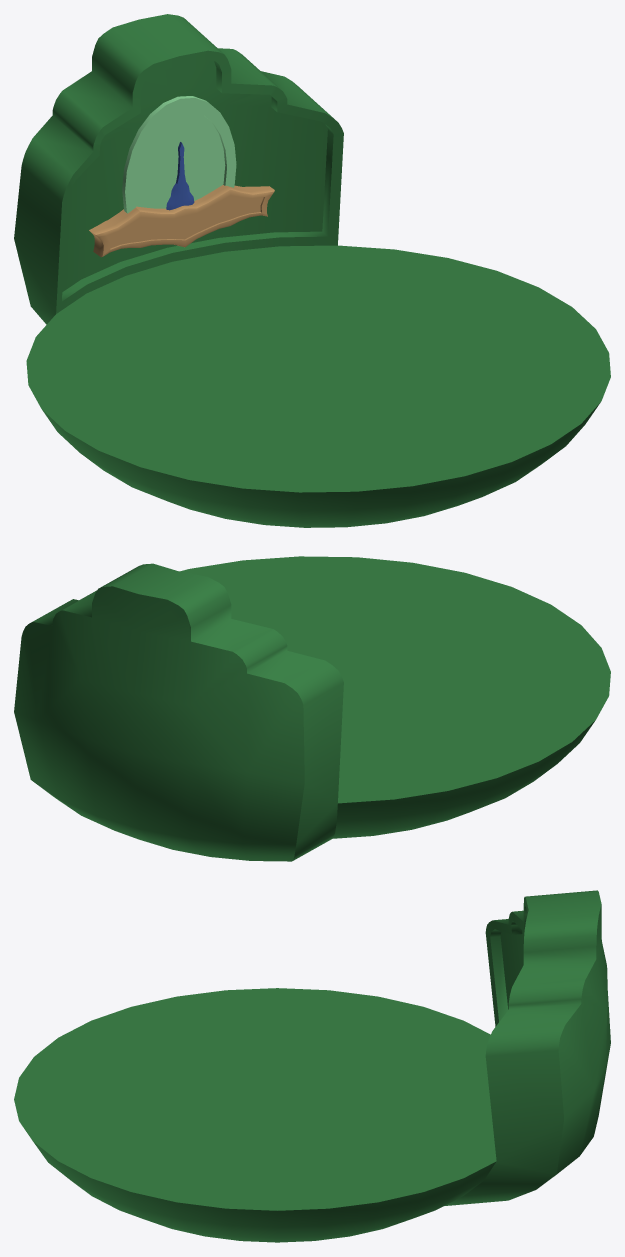
The model's file is Clocktower.fbx.
3 views of the same model, one above another, from view 1: azimuth 30°, elevation 25°; view 2: azimuth 150°, elevation 25°; view 3: azimuth 270°, elevation 25° (orthographic). The views are drawn at different scales.
Parts seen in each view (by area): view 1: Sphere001, Torus001, Box003, Box002; view 2: Sphere001; view 3: Sphere001.
Part boxes in pixels (x1,y1,x2,y2): Sphere001: (14,14,610,527); Torus001: (122,96,236,213); Box003: (89,185,274,257); Box002: (166,142,194,210); Sphere001: (14,556,610,861); Sphere001: (14,890,610,1242).
Size of the model in its own units: 4669 by 2677 by 5289.
